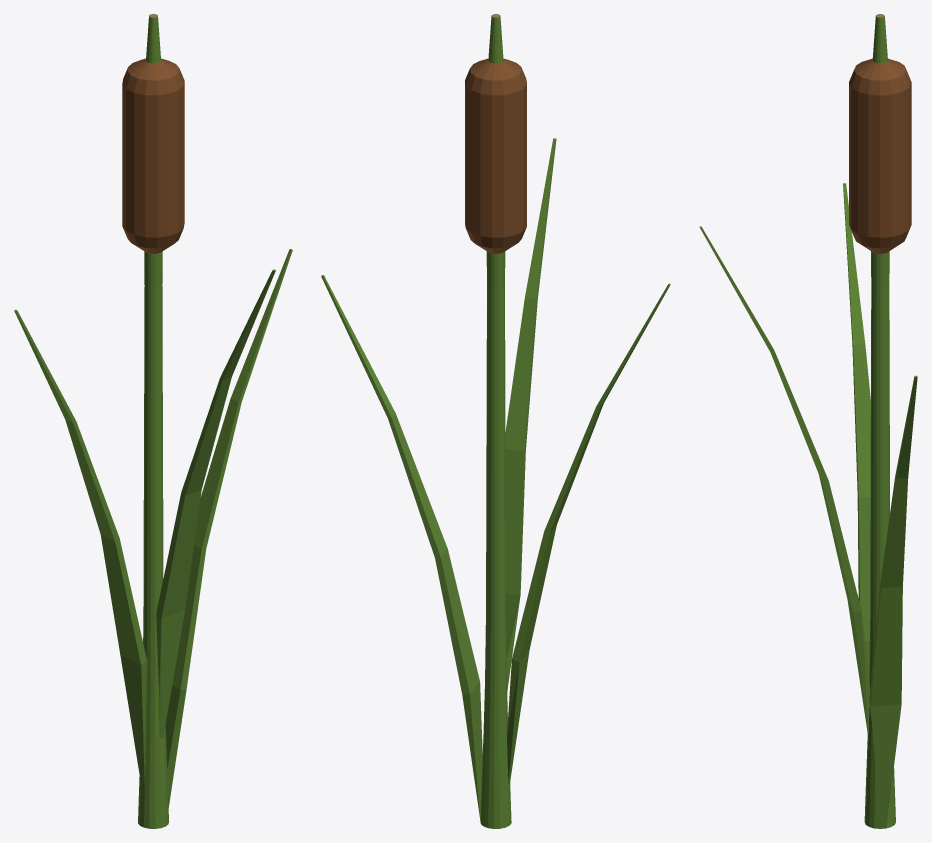
File: NEW_RECOVERY_078_LOD0.glb
3 renders of one model, left to right at view 1: azimuth 30°, elevation 25°; view 2: azimuth 150°, elevation 25°; view 3: azimuth 270°, elevation 25°, orthographic.
Visible parts, largest first — view 1: Cattail_whole_plant; view 2: Cattail_whole_plant; view 3: Cattail_whole_plant.
Part boxes in pixels (box(x1,y1,x2,y2)): Cattail_whole_plant: box(14, 14, 292, 828); Cattail_whole_plant: box(321, 14, 670, 828); Cattail_whole_plant: box(699, 14, 917, 828).
Bounding box in the file's own units: 1.04 × 2.55 × 0.6254.
